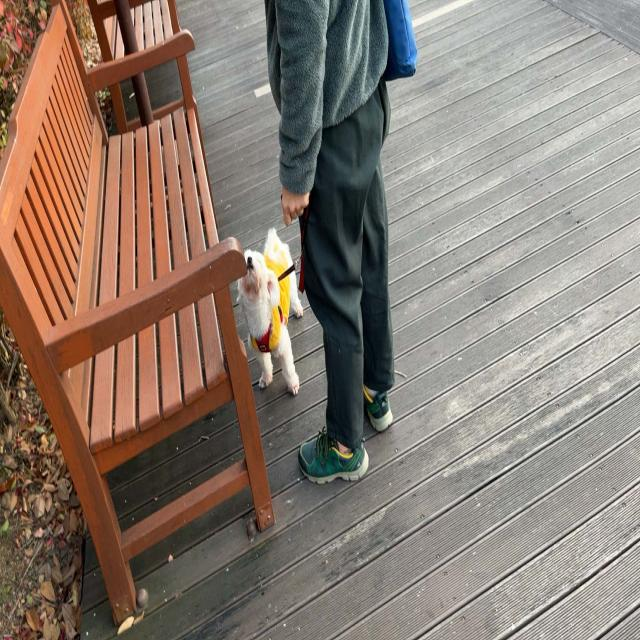Leashed_Dog: (234, 206, 330, 398)
